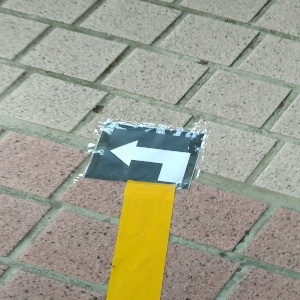left: (85, 124, 202, 186)
